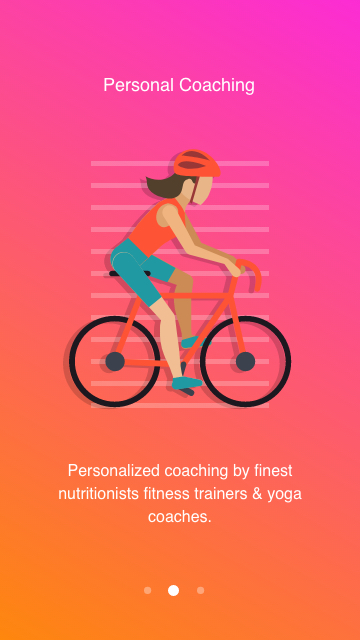Image: (64, 149, 293, 409)
PageIndicator: (144, 584, 205, 597)
Text: (59, 463, 303, 523), (104, 77, 255, 96)
